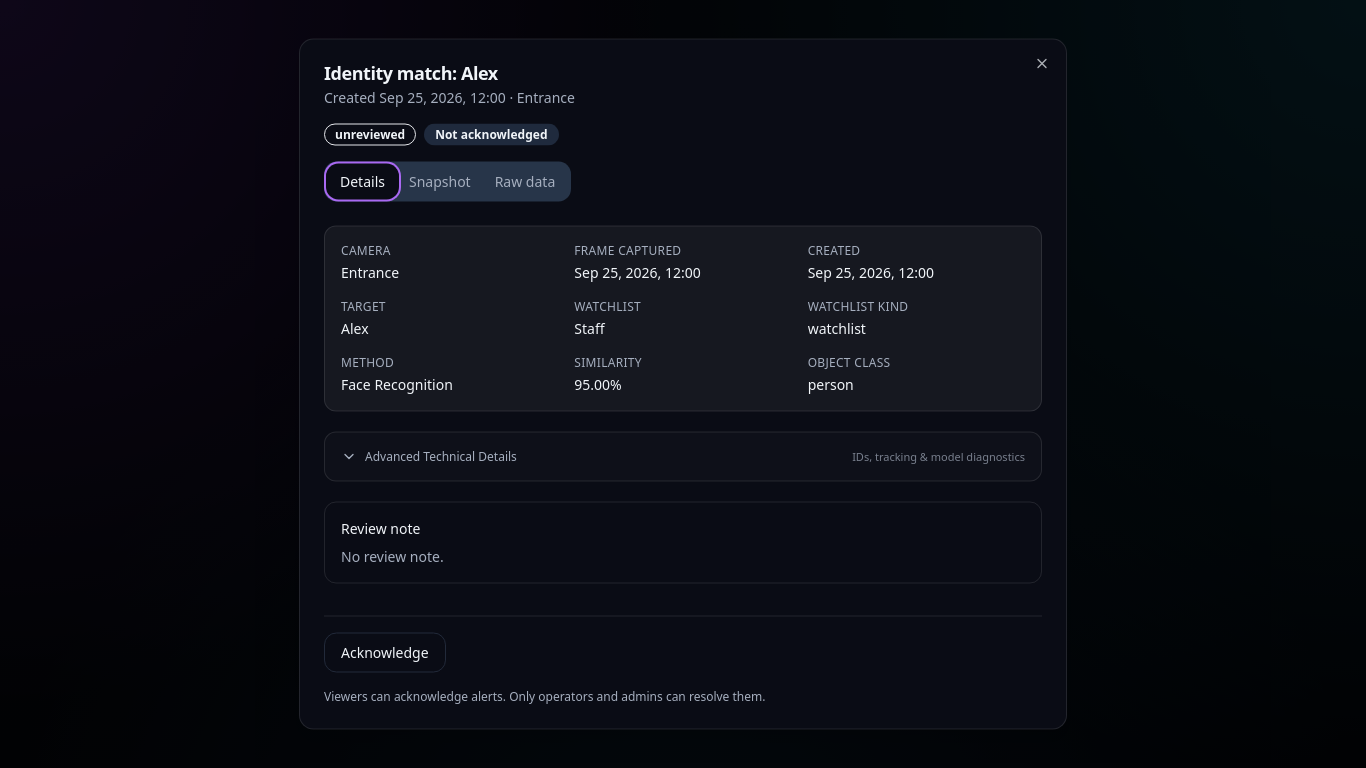
Test: alert review role and confirmation guards › allows viewers to acknowledge only after confirmation, but never exposes resolution
Click the button "Acknowledge" at [385, 652], box [324,632,446,672]
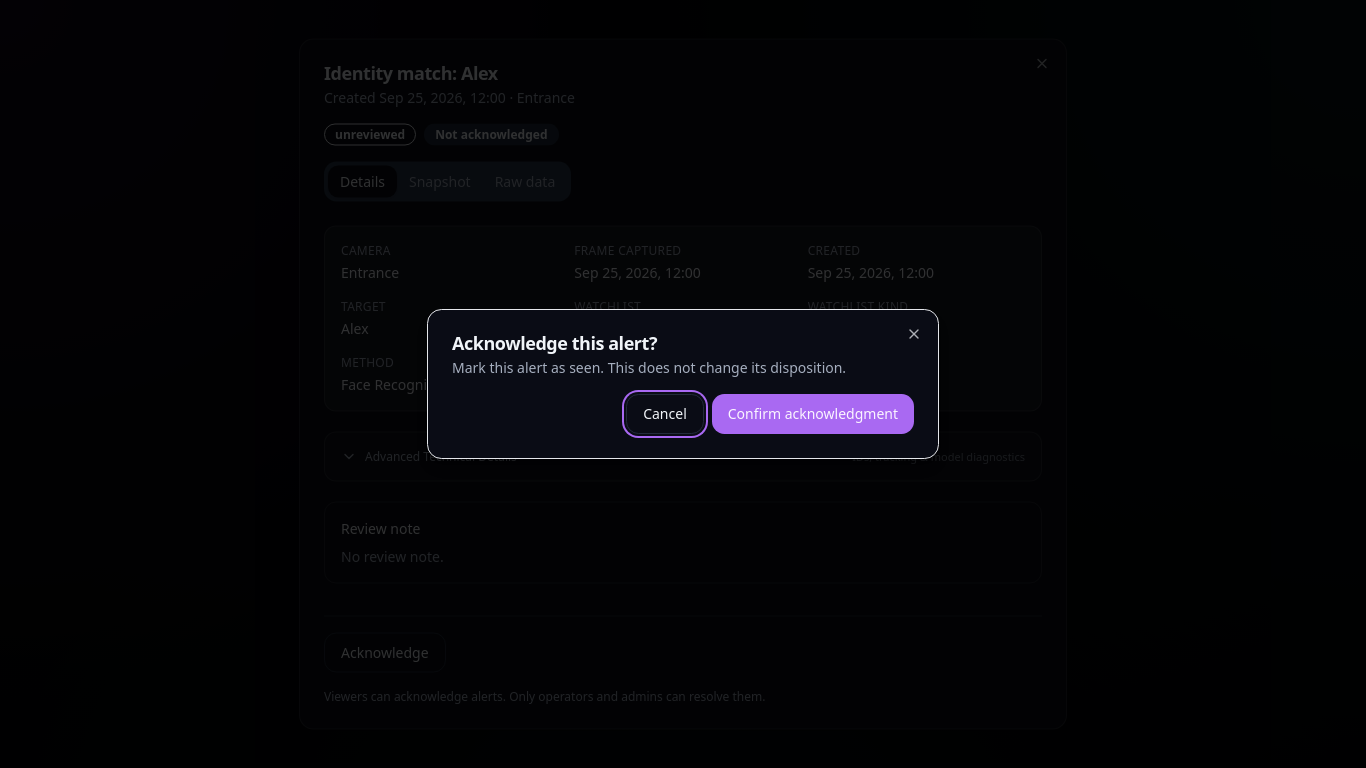
Click the button "Confirm acknowledgment" at [813, 414], box [712,394,914,434]
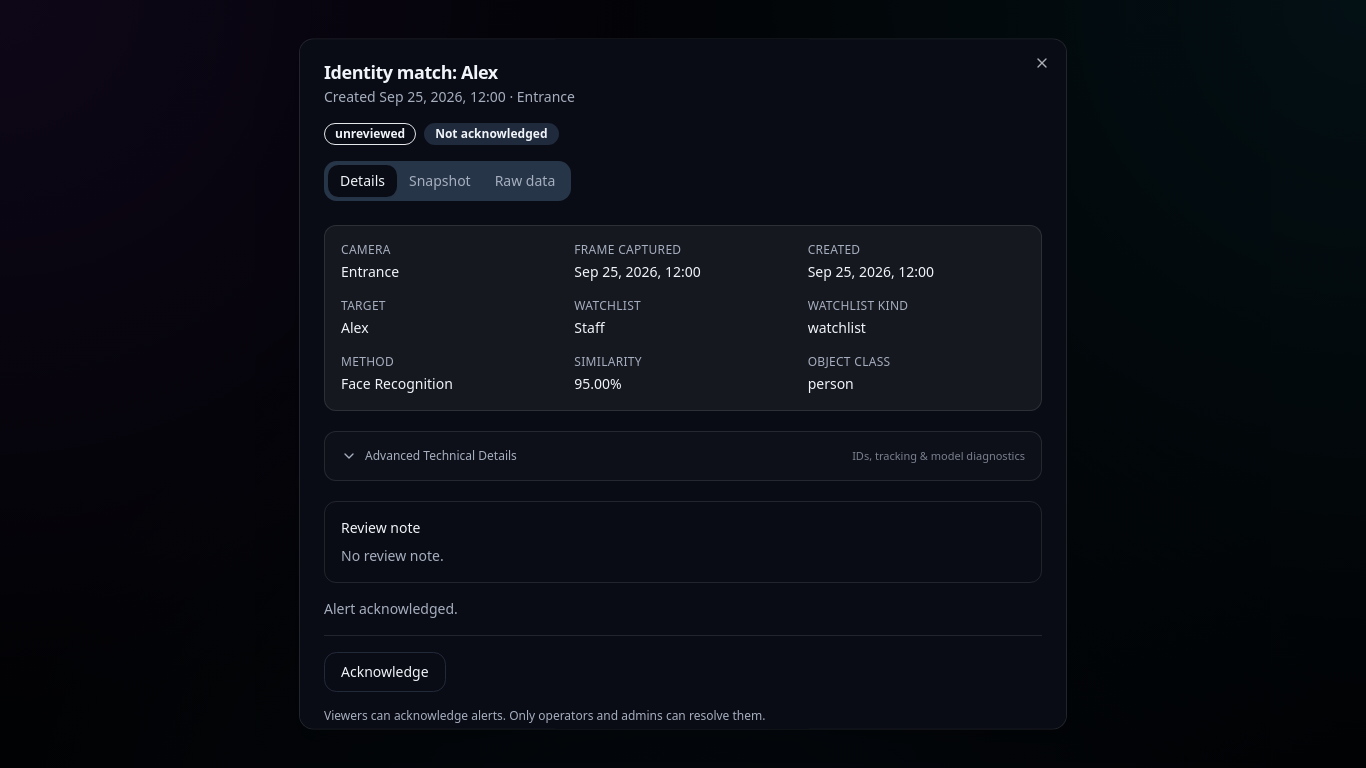
Expected: the text "Alert acknowledged." is shown, [324,599,458,618]
